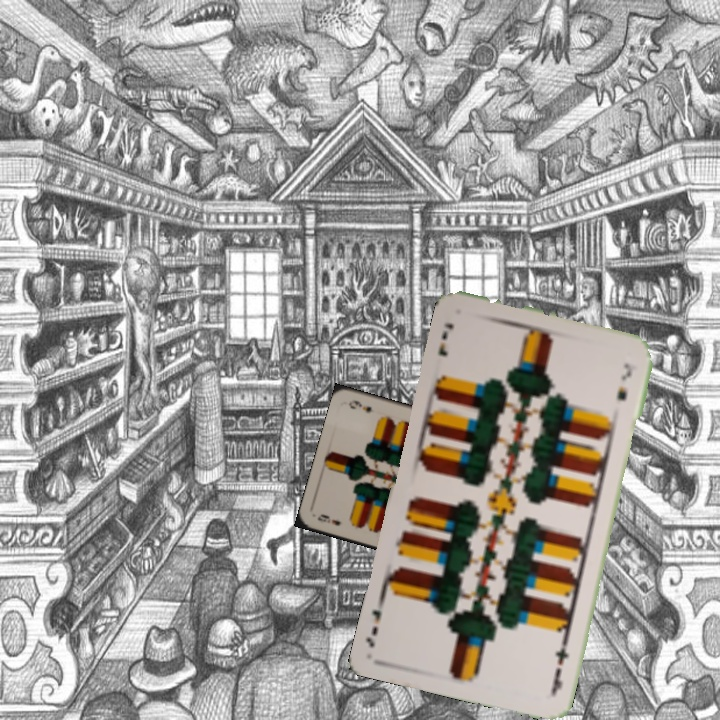E7: (547, 637, 572, 696), (434, 319, 456, 359)
E9: (314, 510, 344, 528)
